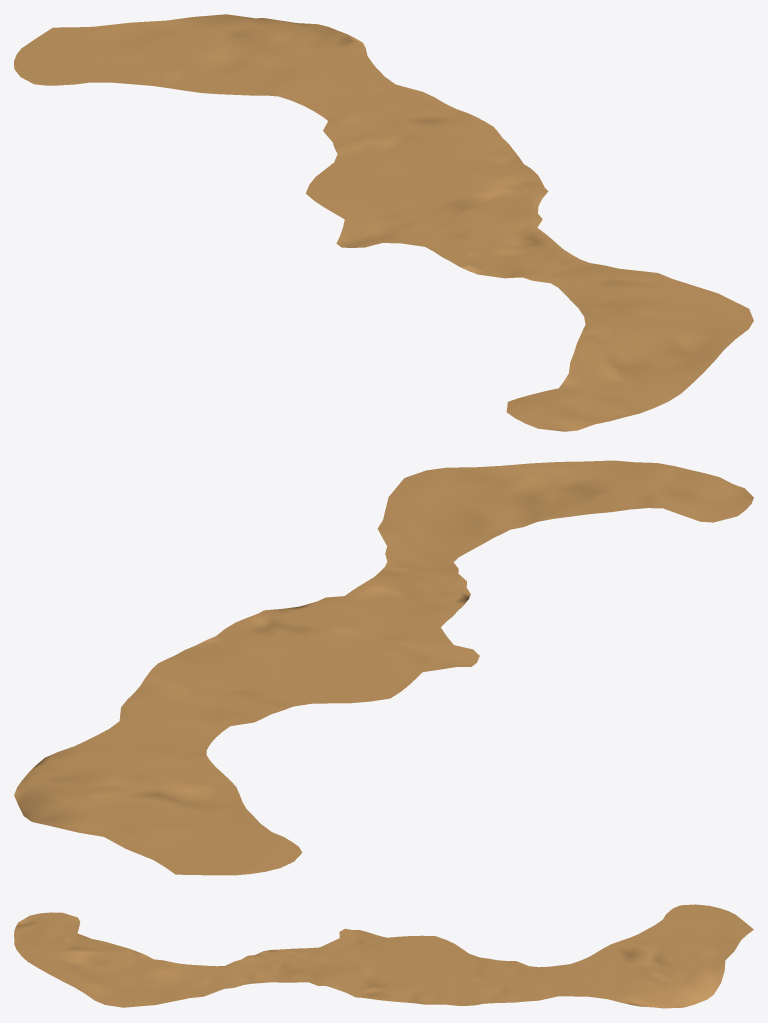
Rendered from Desert_Ground.fbx.
3 renders of one model, top to bottom at view 1: azimuth 30°, elevation 25°; view 2: azimuth 150°, elevation 25°; view 3: azimuth 270°, elevation 25°, orthographic. The views are drawn at different scales.
Parts seen in each view (by area): view 1: Desert Ground; view 2: Desert Ground; view 3: Desert Ground.
Boxes of the visible parts, x1,y1,x2,y2 form: Desert Ground: (14, 14, 753, 431); Desert Ground: (14, 460, 753, 875); Desert Ground: (14, 904, 753, 1008).
Size of the model in its own units: 3713 by 199 by 11267.
